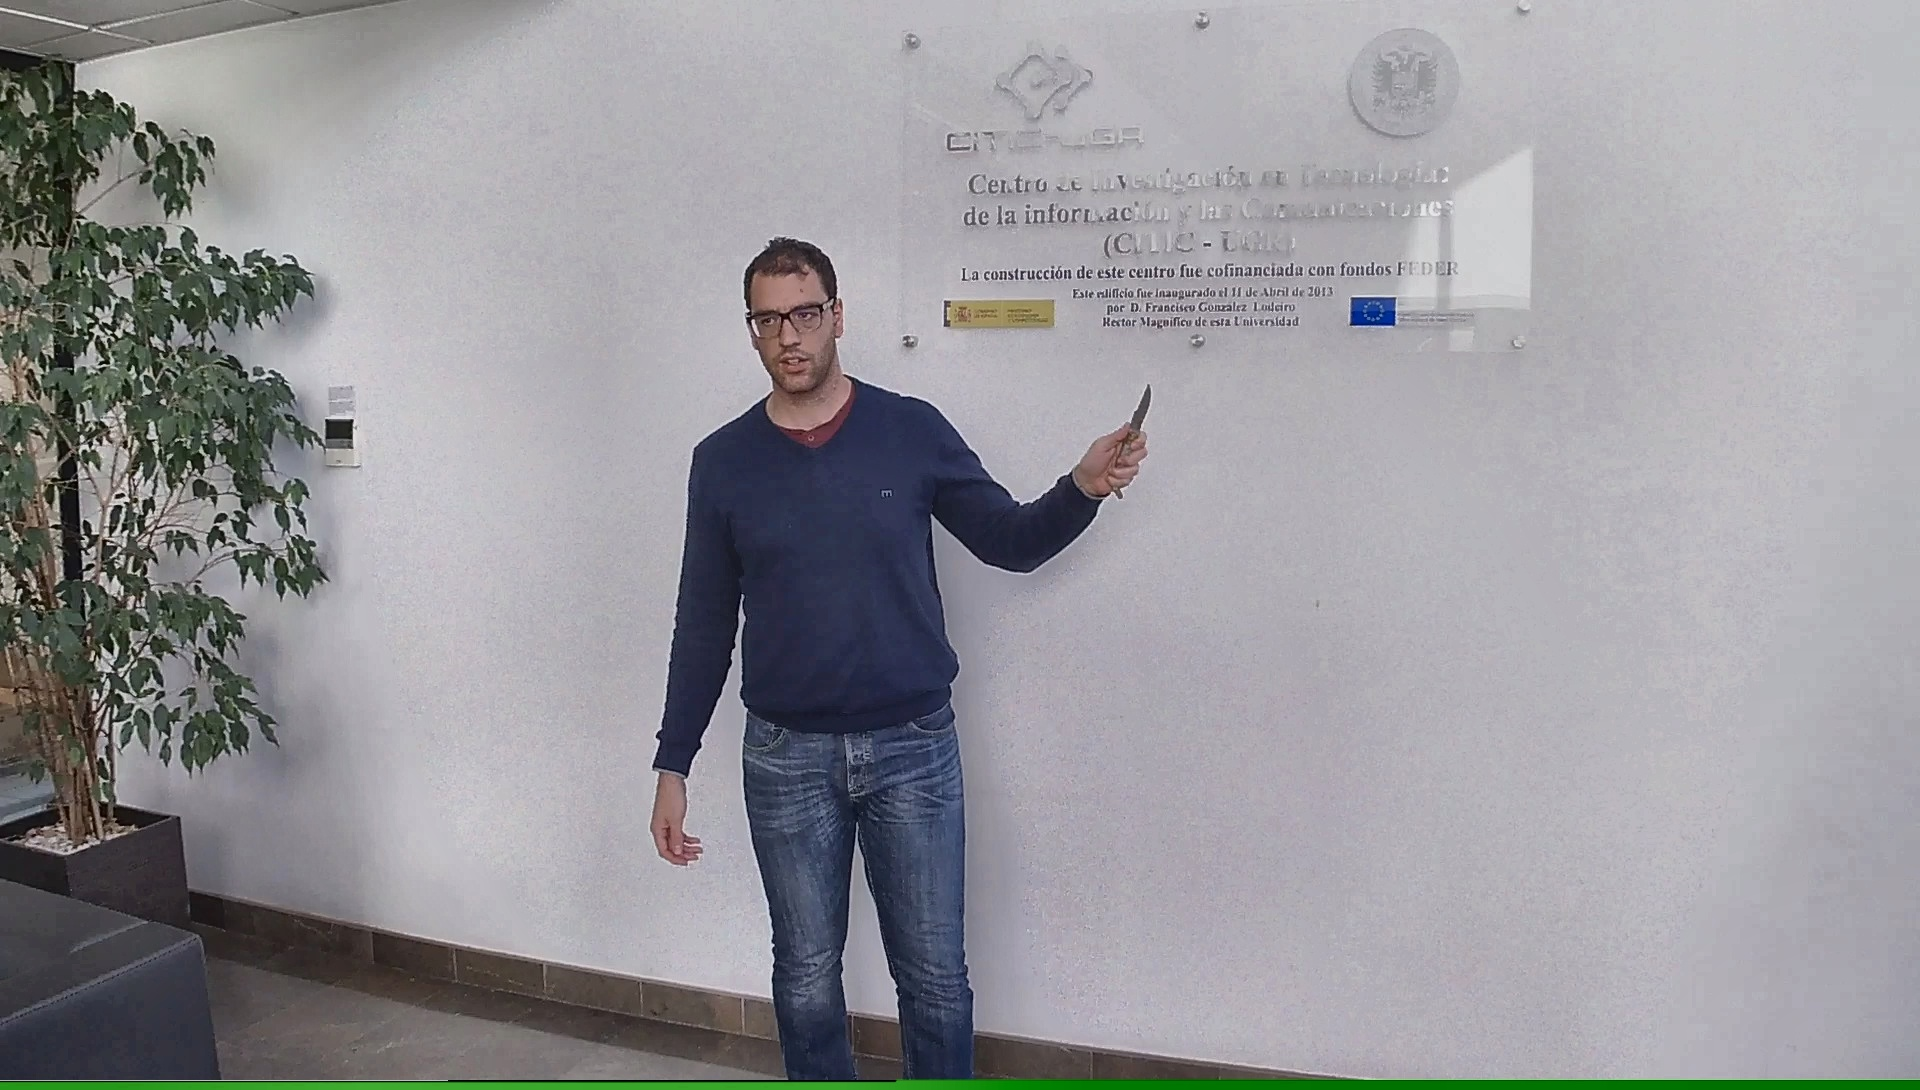knife: (1102, 370, 1159, 509)
